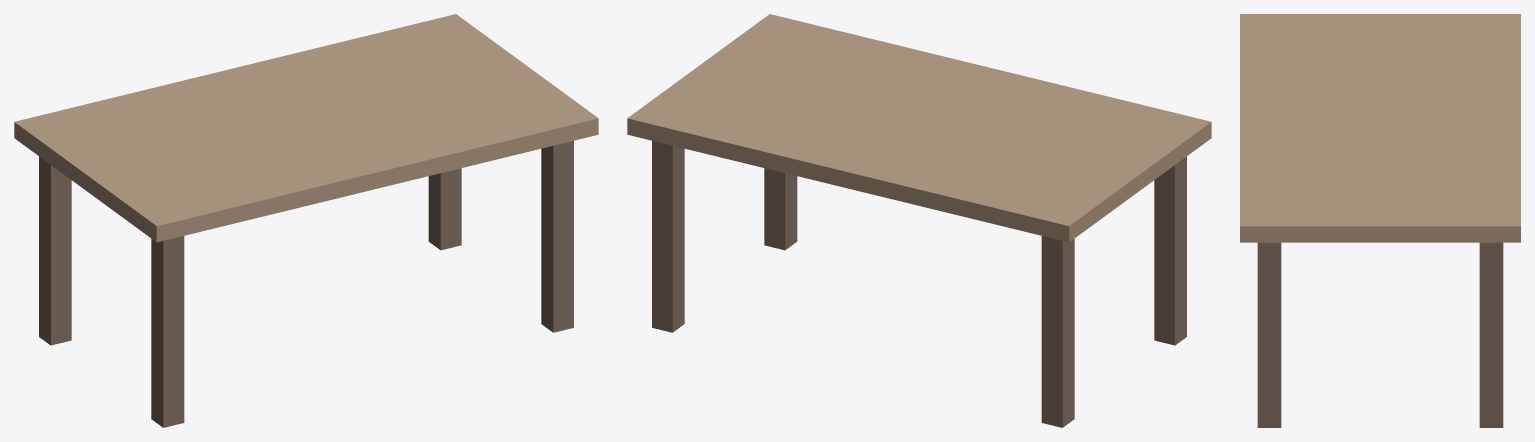
Rendered from dining_table.glb.
The picture shows the model from 3 angles, left to right: view 1: azimuth 30°, elevation 25°; view 2: azimuth 150°, elevation 25°; view 3: azimuth 270°, elevation 25°; orthographic projection.
Parts seen in each view (by area): view 1: p000, p001, p002, p003, p004; view 2: p000, p003, p004, p001, p002; view 3: p000, p002, p004.
Part boxes in pixels (<box>): p000: <box>14,14,598,242</box>; p001: <box>151,236,184,427</box>; p002: <box>541,141,573,332</box>; p003: <box>39,156,71,345</box>; p004: <box>428,168,461,250</box>; p000: <box>627,14,1211,242</box>; p003: <box>1041,236,1074,427</box>; p004: <box>652,141,684,332</box>; p001: <box>1154,156,1186,345</box>; p002: <box>764,168,797,250</box>; p000: <box>1240,14,1520,242</box>; p002: <box>1257,242,1281,427</box>; p004: <box>1479,242,1503,427</box>.
Bounding box in the file's own units: 1.7 × 0.78 × 0.95.
